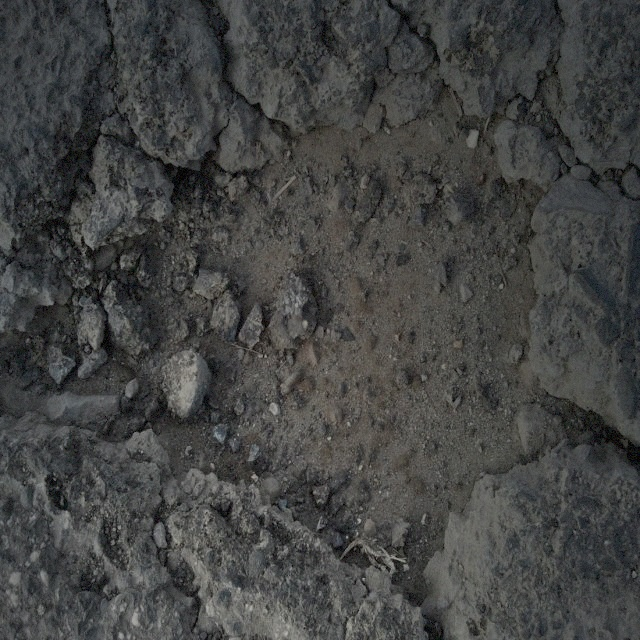pothole: (106, 74, 552, 599)
